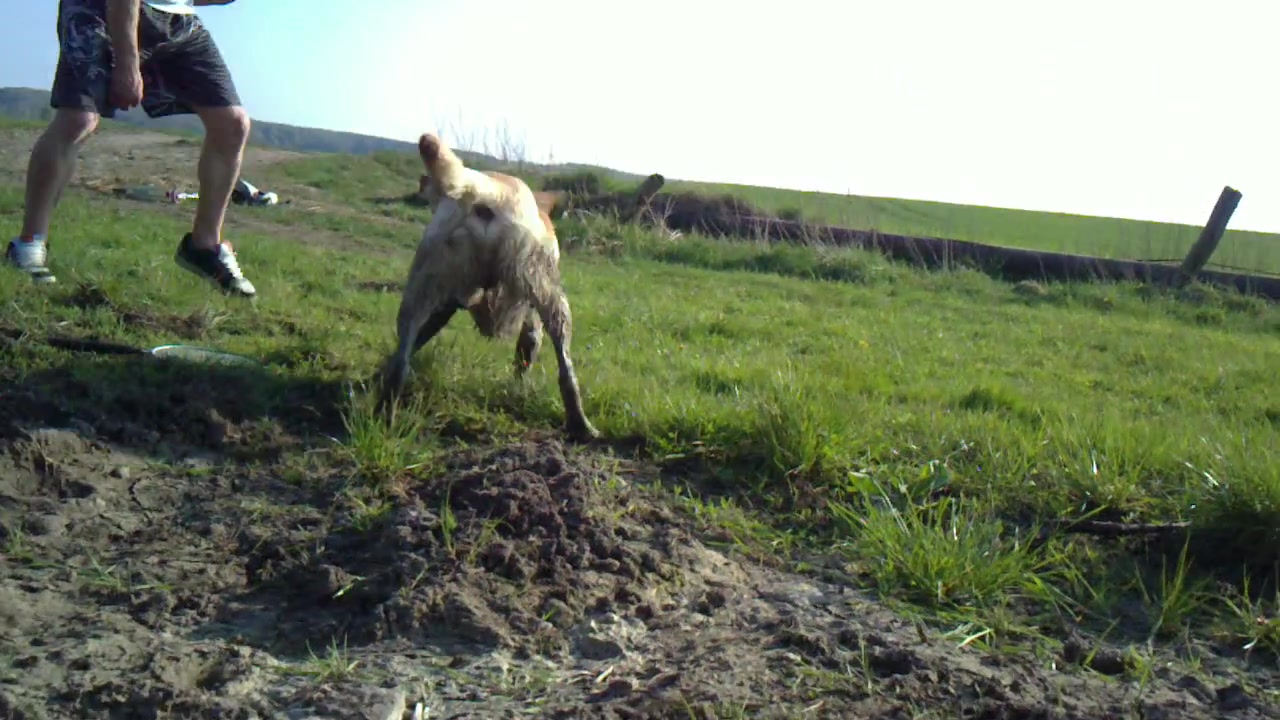dog: (379, 134, 605, 446)
